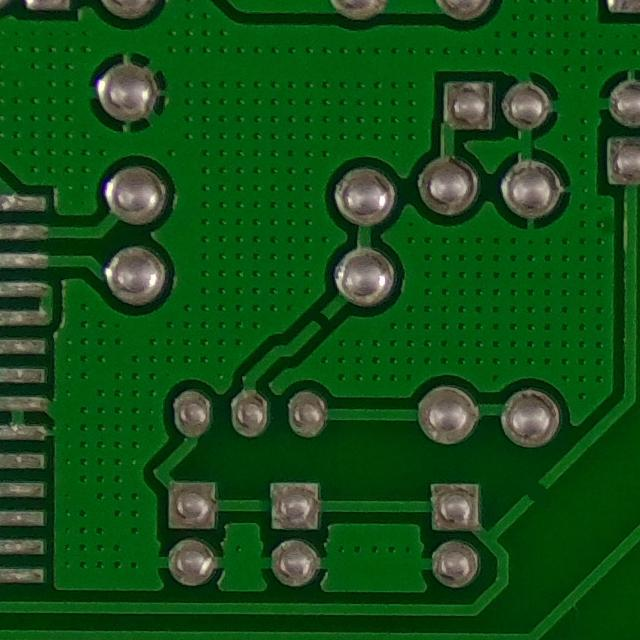open_circuit: (308, 308, 333, 333)
